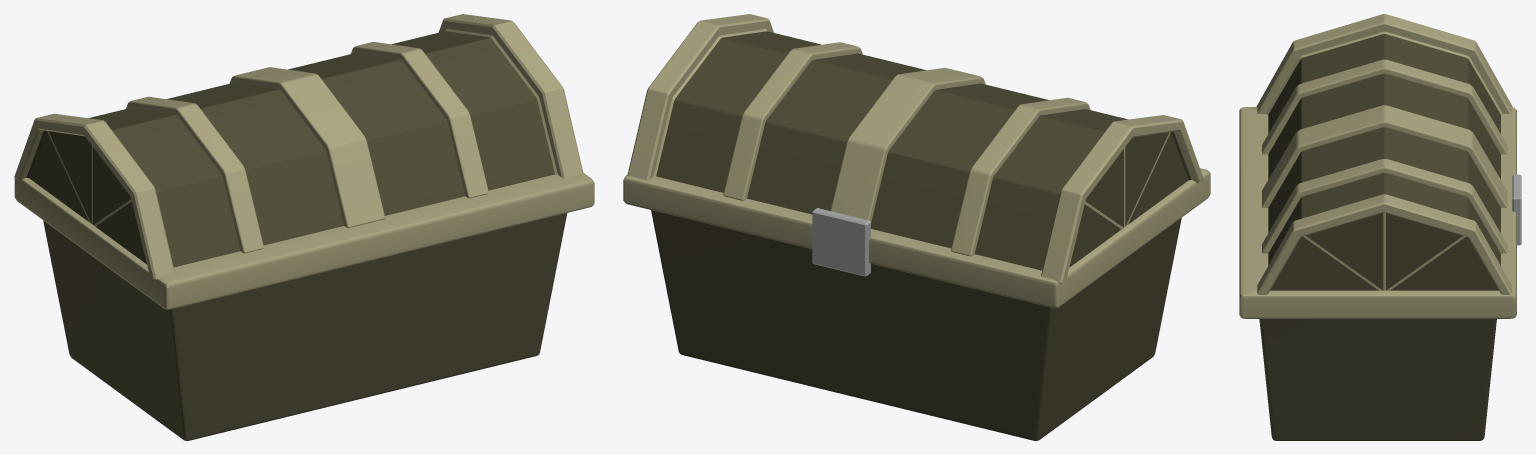
Rendered from chest.fbx.
The picture shows the model from 3 angles, left to right: view 1: azimuth 30°, elevation 25°; view 2: azimuth 150°, elevation 25°; view 3: azimuth 270°, elevation 25°; orthographic projection. The views are drawn at different scales.
Visible parts, largest first — view 1: pCube88, pCylinder26; view 2: pCylinder26, pCube88, pCube50; view 3: pCylinder26, pCube88, pCube50.
Part boxes in pixels (x1,y1,x2,y2): pCube88: (14, 173, 594, 440); pCylinder26: (14, 14, 583, 280); pCylinder26: (627, 14, 1203, 284); pCube88: (623, 168, 1210, 440); pCube50: (812, 208, 870, 276); pCylinder26: (1256, 14, 1512, 294); pCube88: (1239, 107, 1516, 440); pCube50: (1512, 174, 1521, 245).
Size of the model in its own units: 2.01 by 1.25 by 1.25.
